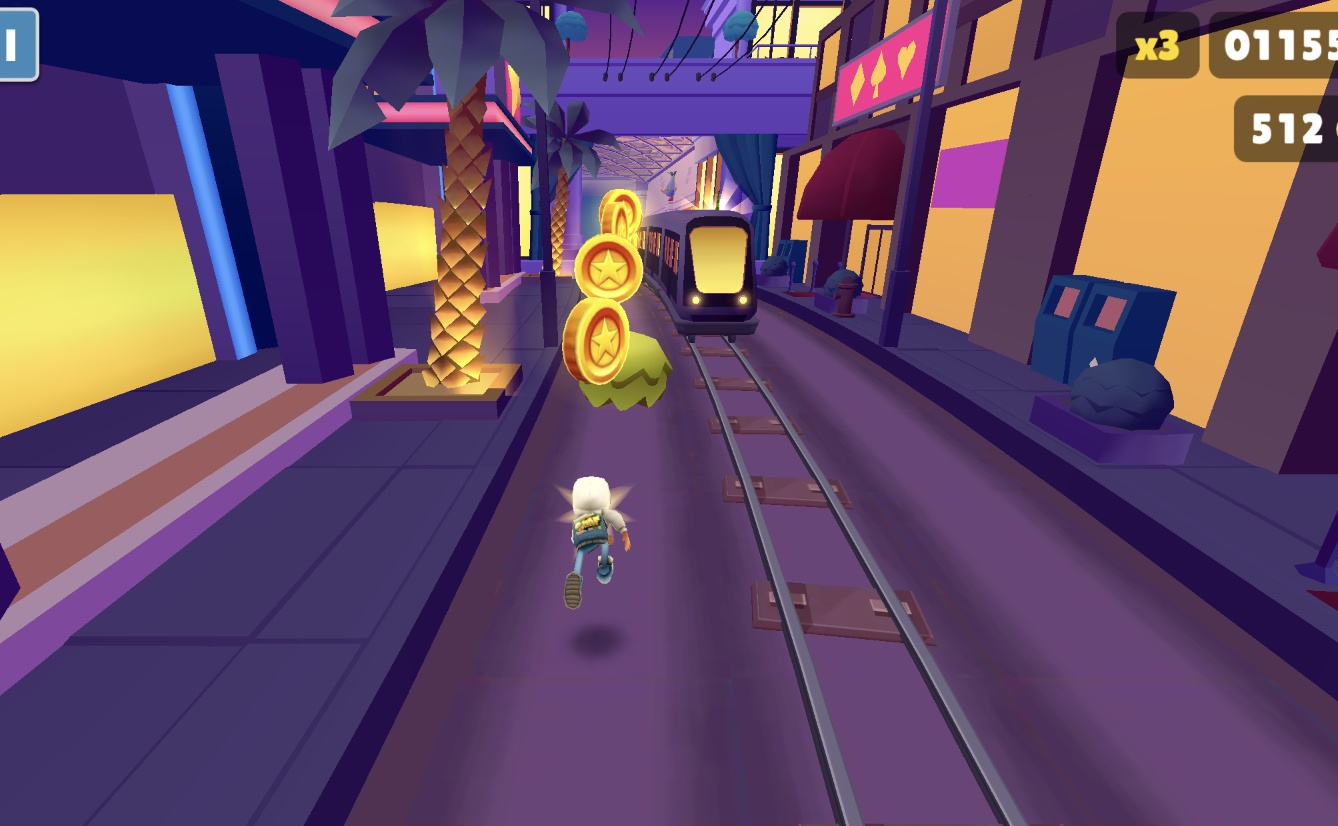bush: (577, 337, 679, 414)
train: (634, 215, 741, 337)
